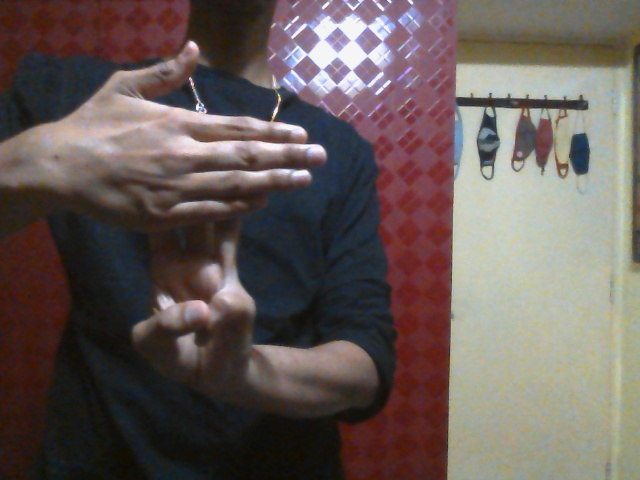M: (70, 40, 326, 384)
